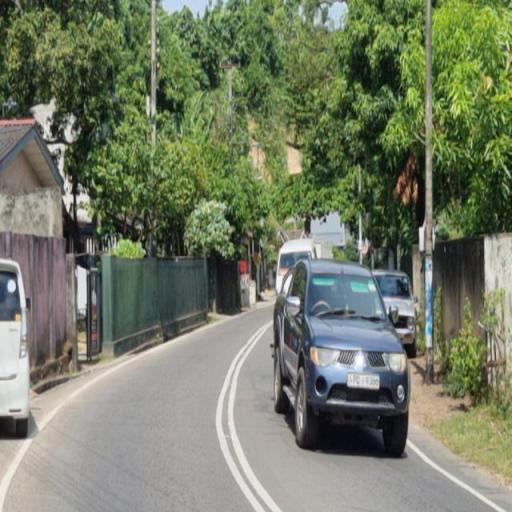double_white_line: (214, 315, 276, 511), (407, 438, 506, 511)
